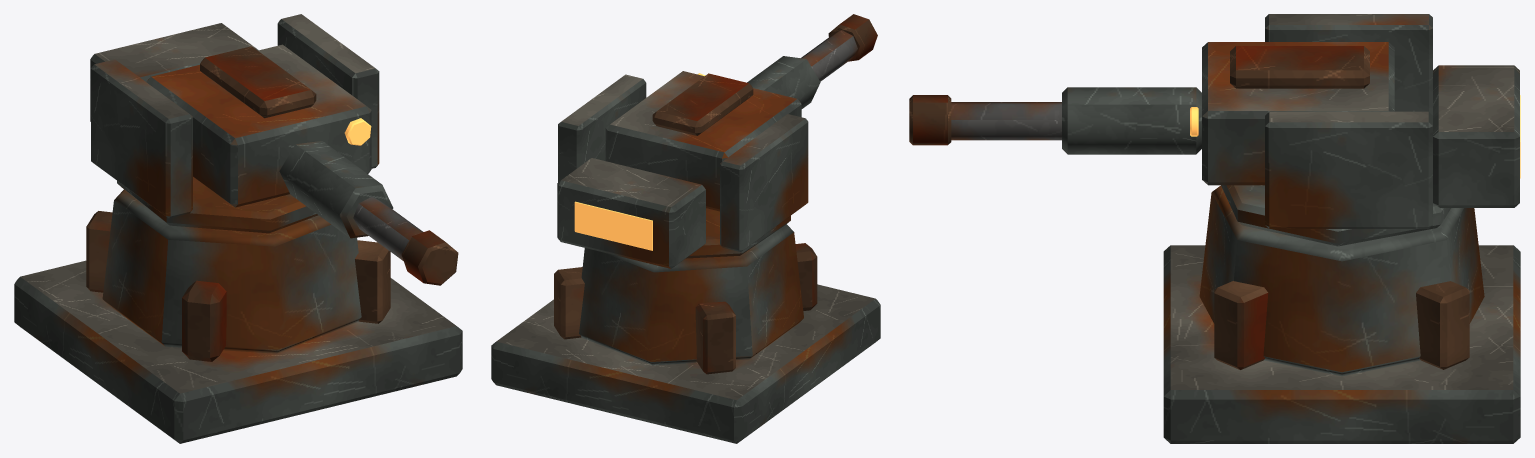
The model's file is R4W_Basic_LOD1.glb.
3 renders of one model, left to right at view 1: azimuth 30°, elevation 25°; view 2: azimuth 150°, elevation 25°; view 3: azimuth 270°, elevation 25°, orthographic. The views are drawn at different scales.
Visible parts, largest first — view 1: R4W_Basic_LOD1; view 2: R4W_Basic_LOD1; view 3: R4W_Basic_LOD1.
Boxes of the visible parts, x1,y1,x2,y2 form: R4W_Basic_LOD1: (14, 14, 462, 443); R4W_Basic_LOD1: (491, 14, 880, 443); R4W_Basic_LOD1: (909, 14, 1520, 443).
Bounding box in the file's own units: 0.51 × 0.494 × 0.873.
Materials: 5 (4 with a texture image).
